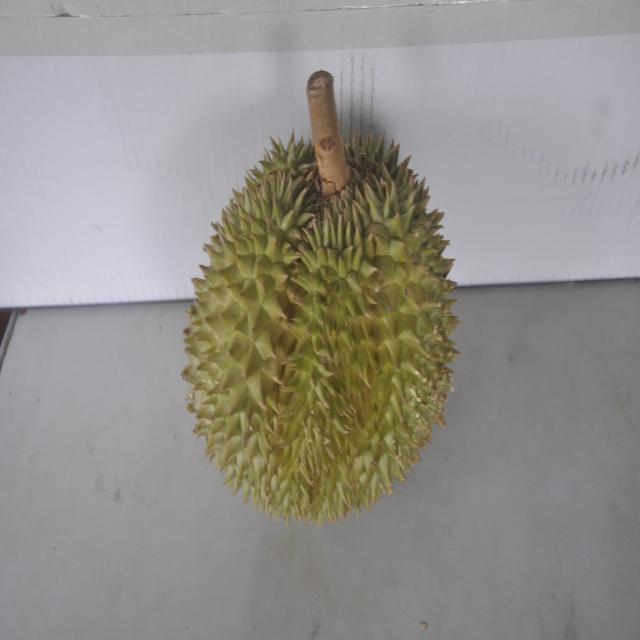mature: (183, 100, 458, 525)
